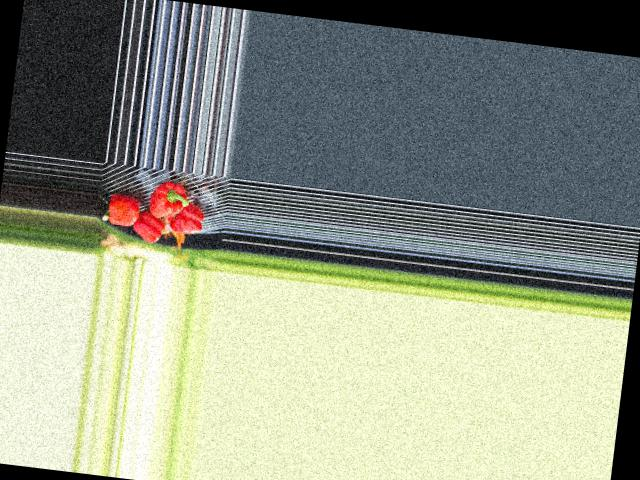bell_pepper: (166, 202, 206, 237)
